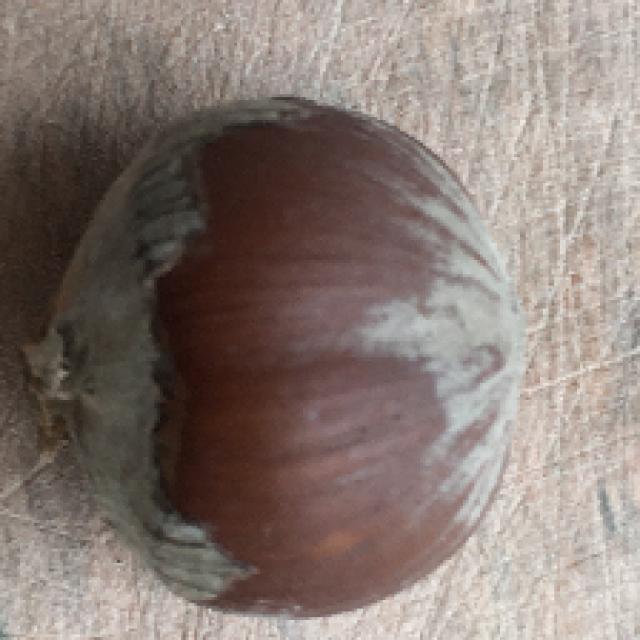damagedHazelnut: (21, 94, 523, 624)
